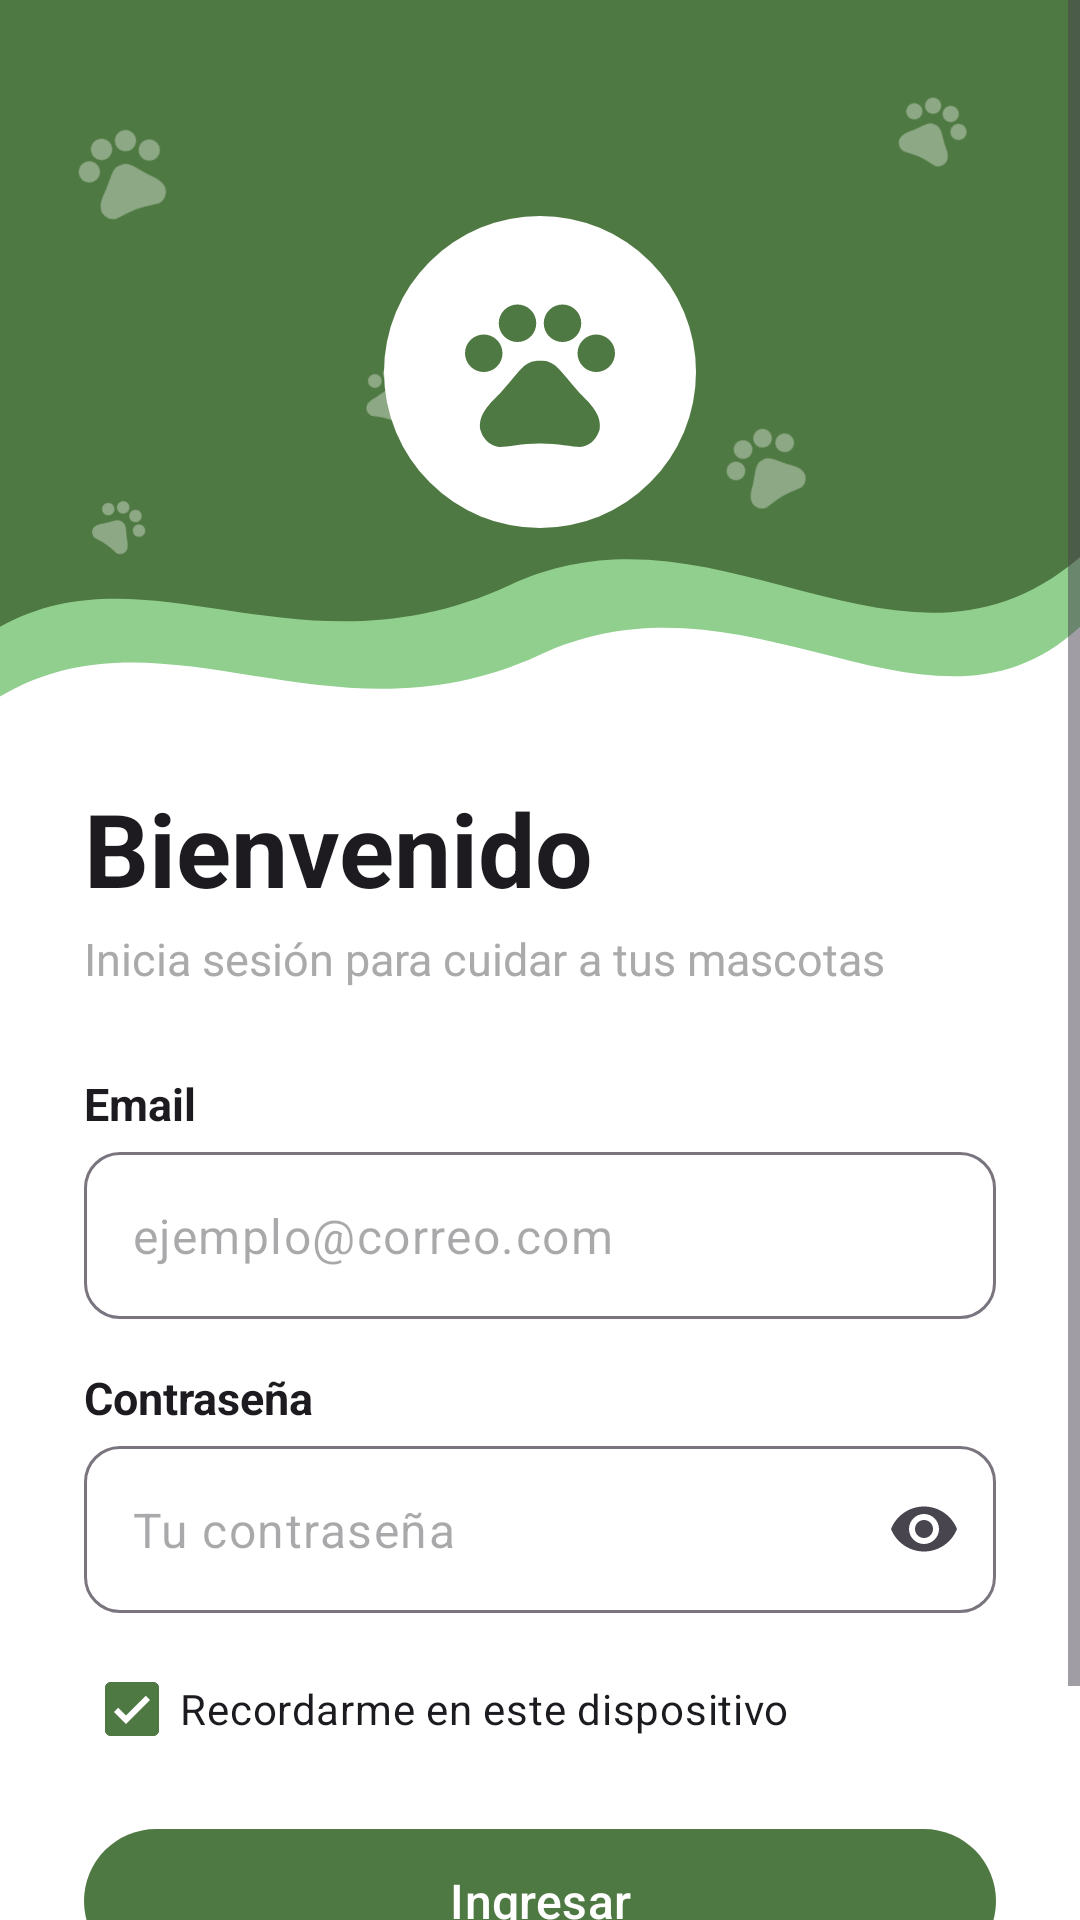

Screen size 1080px×1920px. Icon name, then its center in pixels as (x,y):
Huella de mascota: (540,375)
